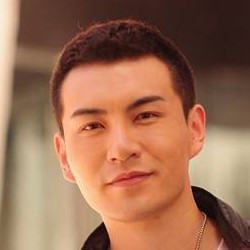unmask: (51, 70, 196, 224)
